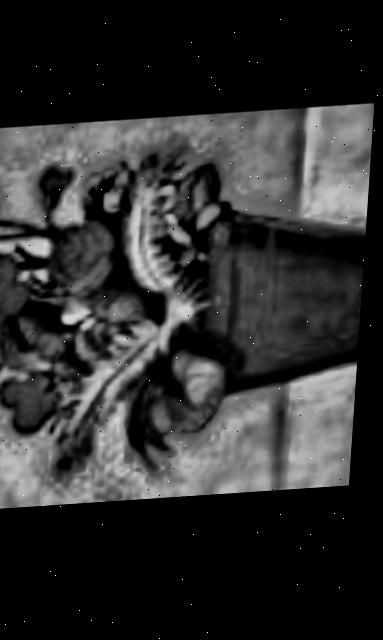La Maceta: (0, 108, 376, 511)
